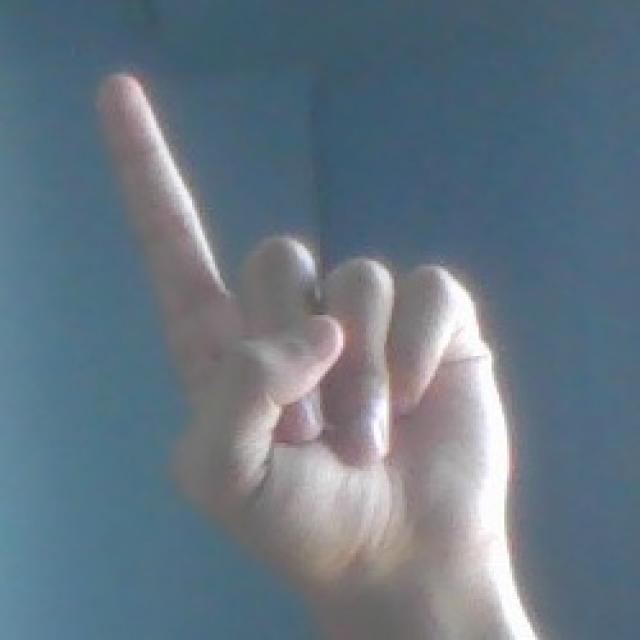Numeric-1: (94, 66, 502, 611)
